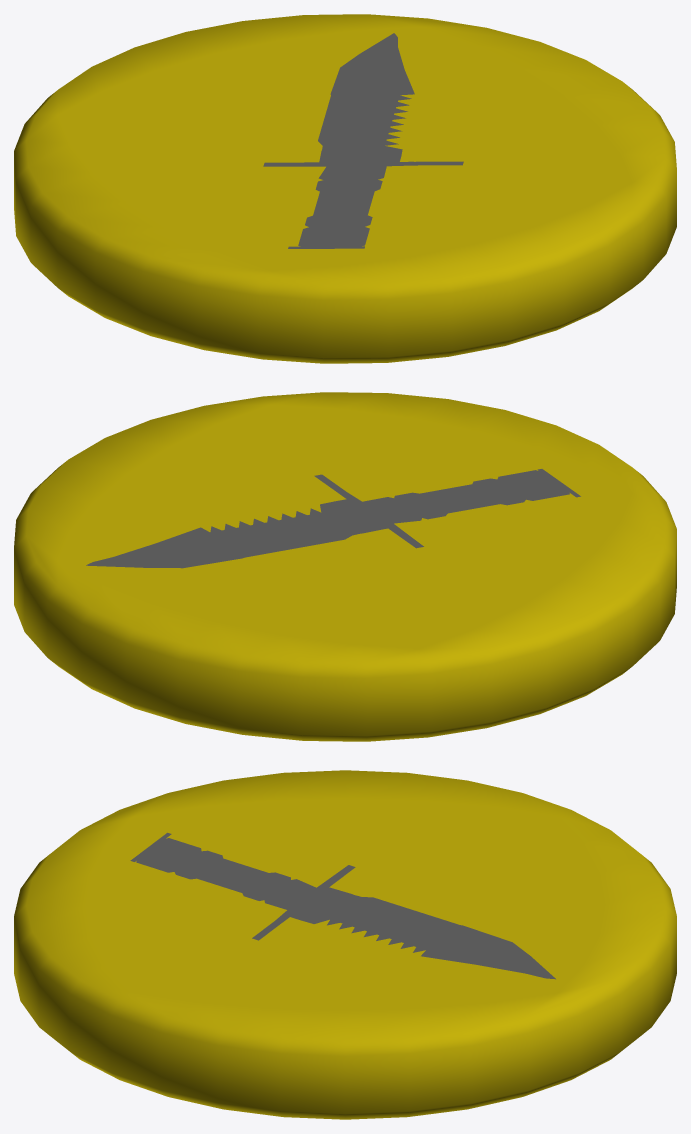
Rendered from KnifePowerUp.fbx.
The picture shows the model from 3 angles, top to bottom: view 1: azimuth 30°, elevation 25°; view 2: azimuth 150°, elevation 25°; view 3: azimuth 270°, elevation 25°; orthographic projection.
Parts seen in each view (by area): view 1: knife powerup; view 2: knife powerup; view 3: knife powerup.
Part boxes in pixels (<box>): knife powerup: <box>14,14,676,363</box>; knife powerup: <box>14,392,676,741</box>; knife powerup: <box>14,770,676,1119</box>.
Bounding box in the file's own units: 1200 × 161 × 1200.
